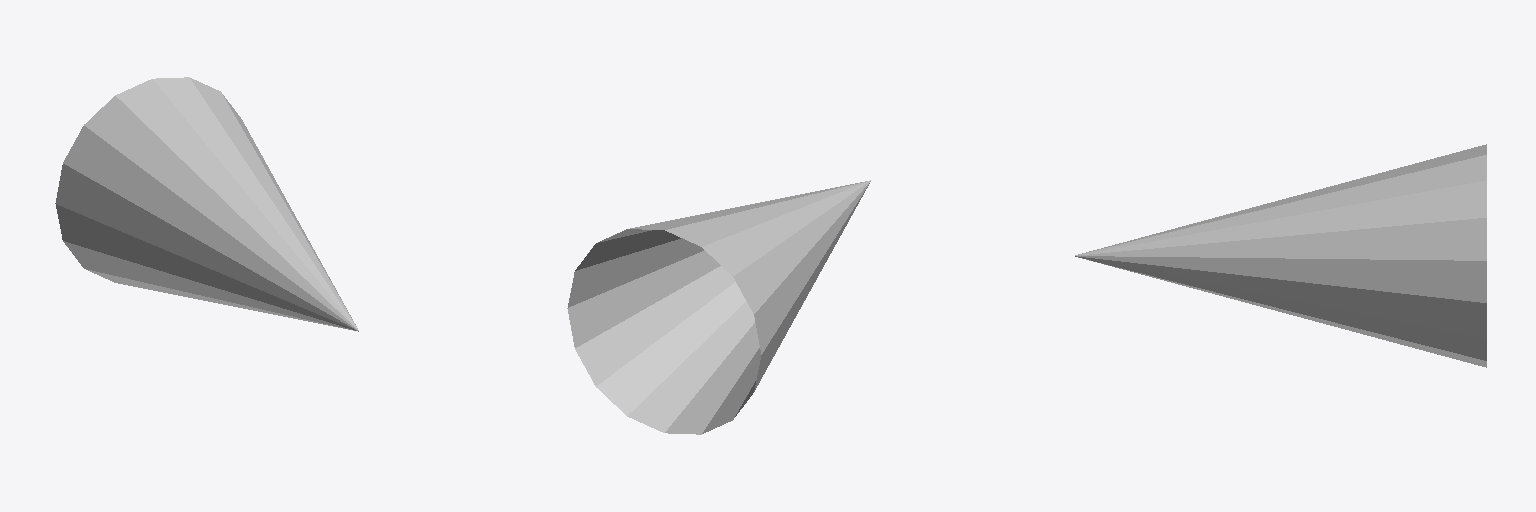
The model's file is SnakeBodyPartTailTop.obj.
3 views of the same model, side by side, from view 1: azimuth 30°, elevation 25°; view 2: azimuth 150°, elevation 25°; view 3: azimuth 270°, elevation 25° (orthographic).
Parts seen in each view (by area): view 1: Cone; view 2: Cone; view 3: Cone.
Part boxes in pixels (x1,y1,x2,y2): Cone: (55,77,358,331); Cone: (567,180,870,434); Cone: (1075,144,1486,367).
Size of the model in its own units: 0.65 by 0.65 by 1.2.